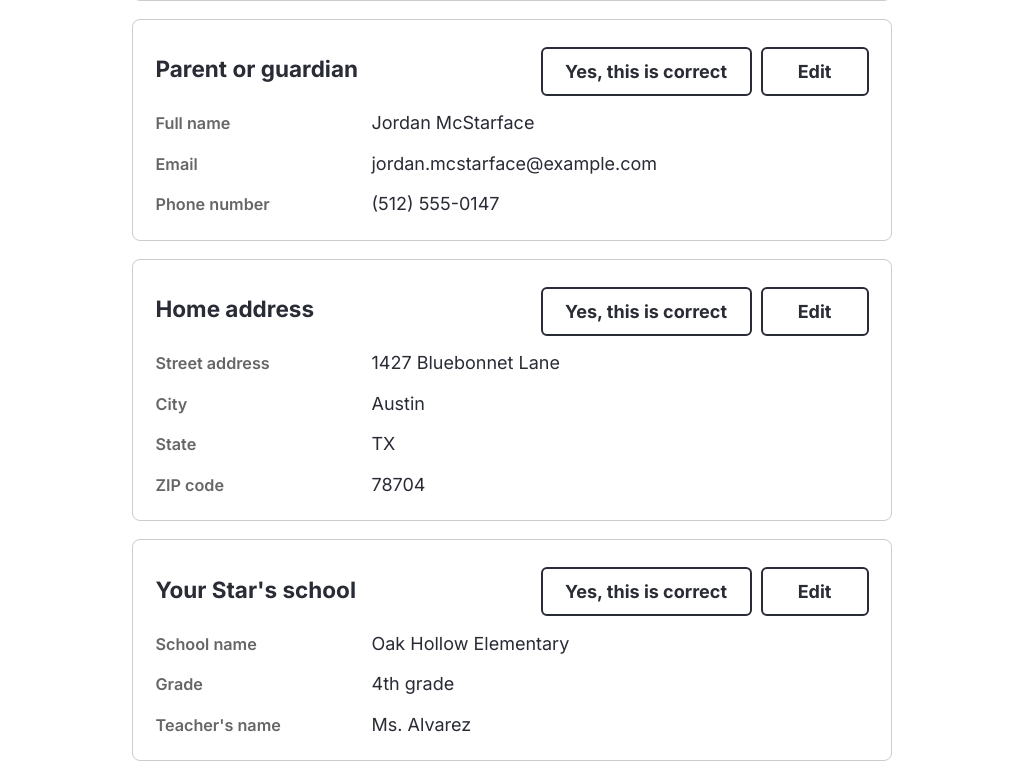
Test case: FamilyTab › records the confirmation when an edit is saved
(page scrolled)
Click the button with aria-label "Edit your Star's school": (814, 592) top-left (760, 567), bottom-right (868, 616)
(page scrolled)
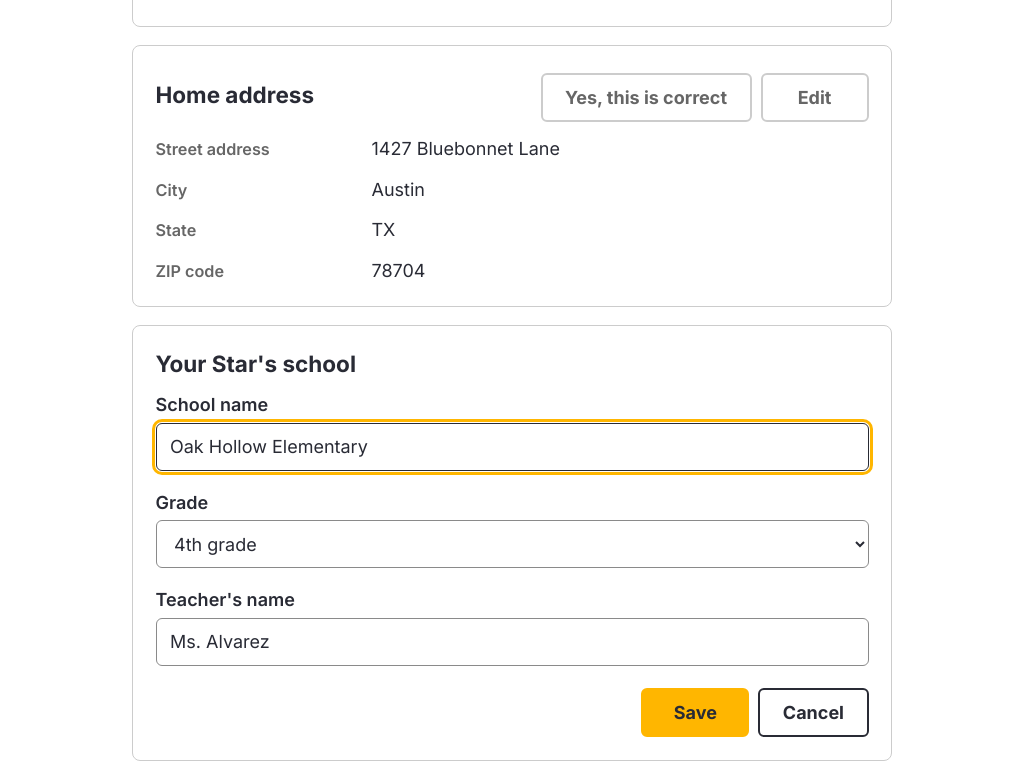
Expected: the button "Yes, this is correct" is disabled, top-left (541, 72), bottom-right (752, 122)
Click the button "Save": (695, 713) top-left (641, 688), bottom-right (749, 737)
(page scrolled)
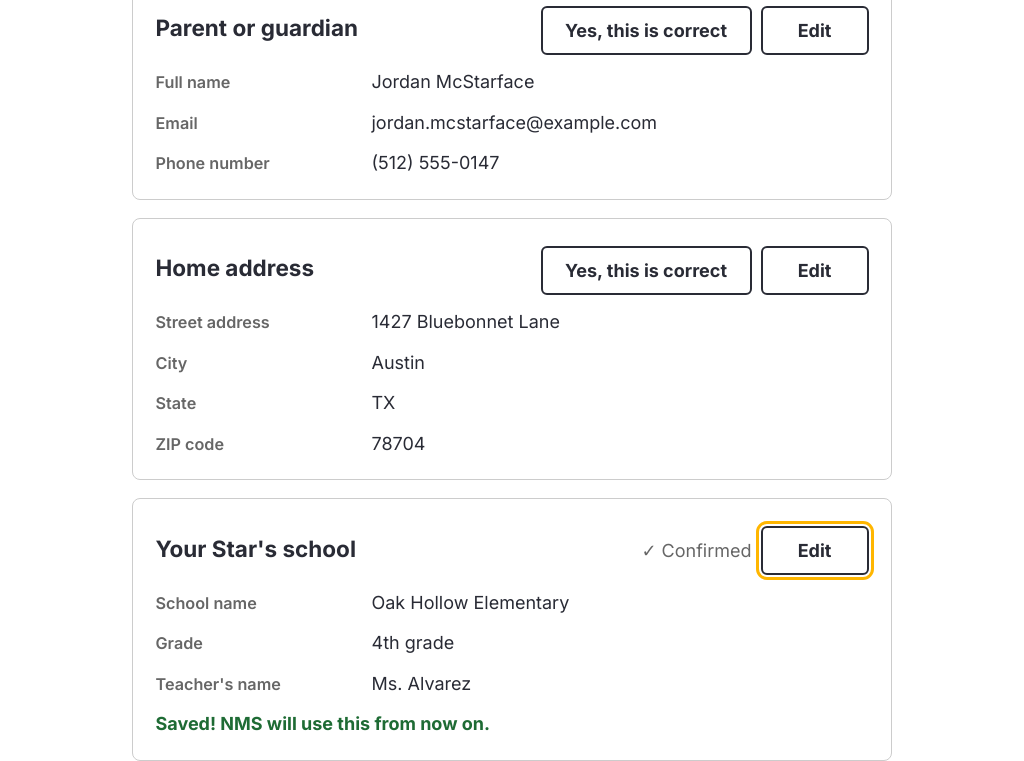
Expected: the text "✓ Confirmed" is shown, top-left (641, 537), bottom-right (752, 564)
